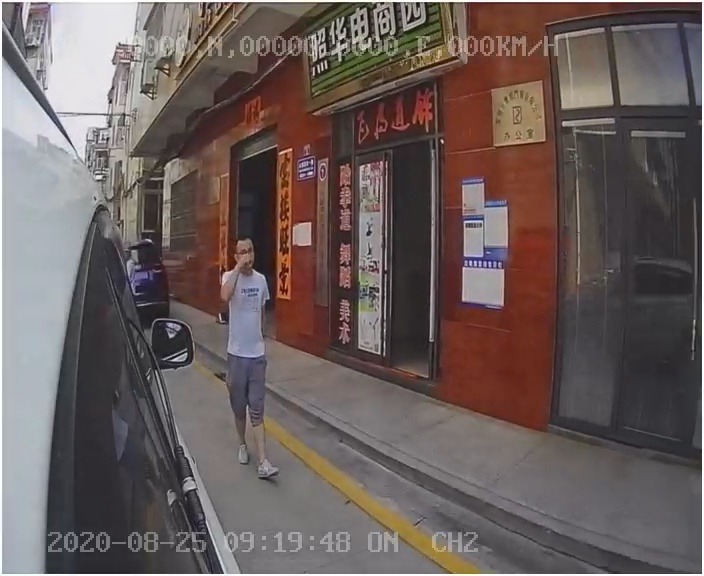person: (209, 238, 306, 483)
